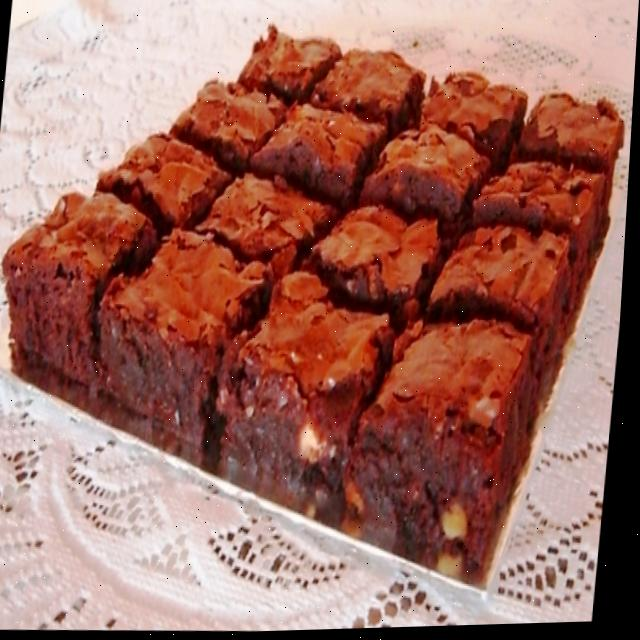蛋糕甜品: (0, 0, 632, 605)
